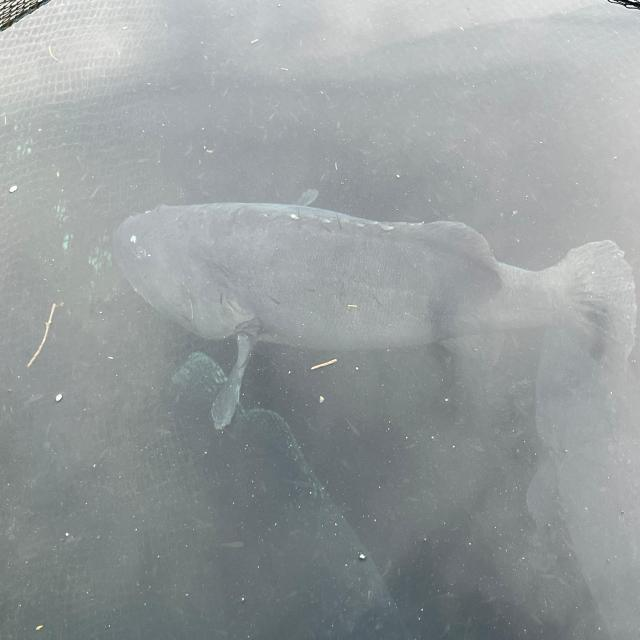ikan: (104, 186, 569, 414)
